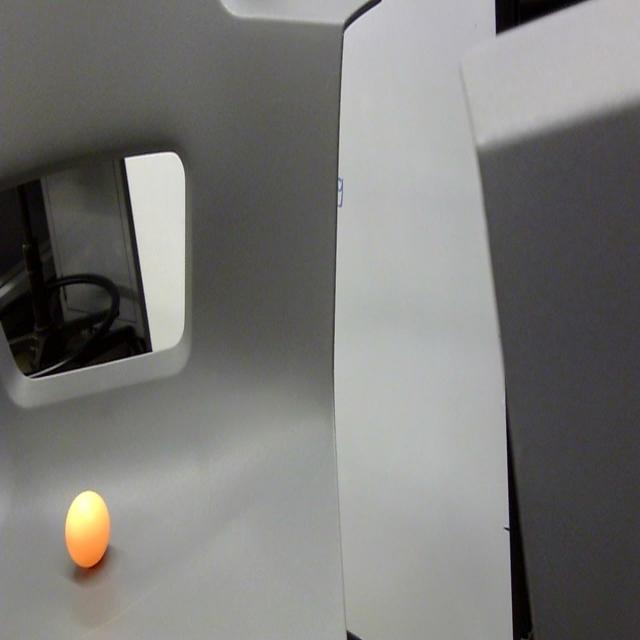ball: (63, 488, 113, 571)
